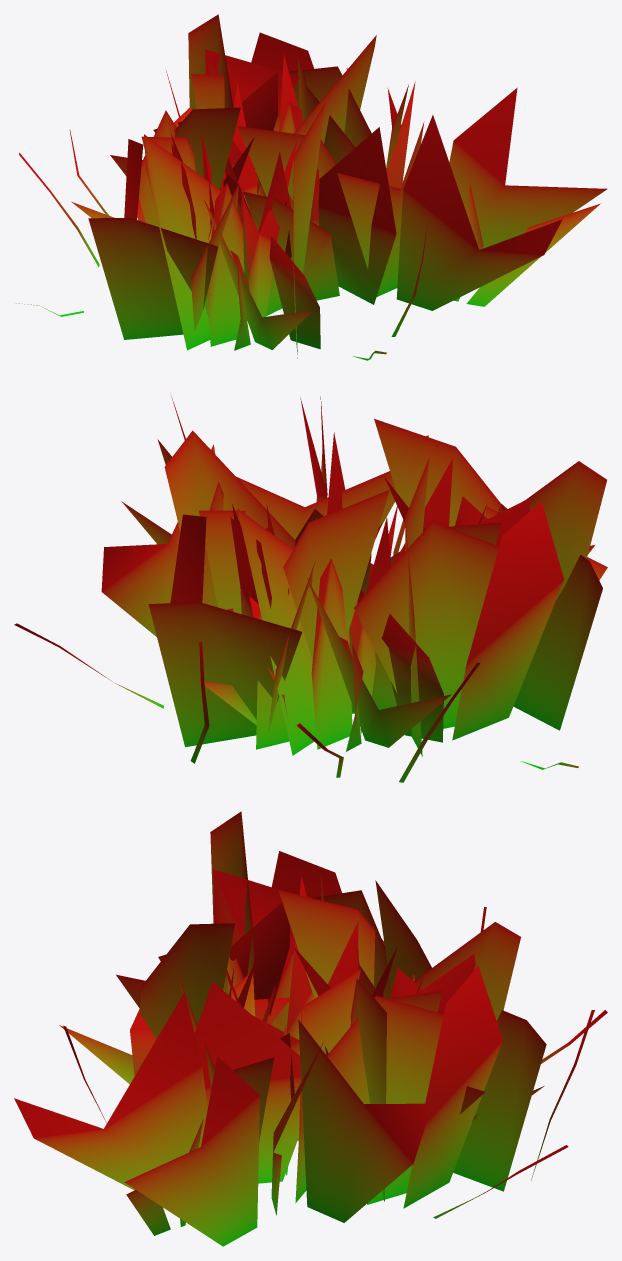
Rendered from Tundra Grass_LOD6_Var31_wk2oaeyqx.fbx.
The picture shows the model from 3 angles, top to bottom: view 1: azimuth 30°, elevation 25°; view 2: azimuth 150°, elevation 25°; view 3: azimuth 270°, elevation 25°; orthographic projection. The views are drawn at different scales.
Parts seen in each view (by area): view 1: _axk6_Var31_LOD6; view 2: _axk6_Var31_LOD6; view 3: _axk6_Var31_LOD6.
Boxes of the visible parts, box(x1,y1,x2,y2) form: _axk6_Var31_LOD6: box(16, 14, 607, 360); _axk6_Var31_LOD6: box(14, 395, 607, 782); _axk6_Var31_LOD6: box(14, 811, 607, 1246).
Size of the model in its own units: 44.42 by 19.49 by 41.28.
